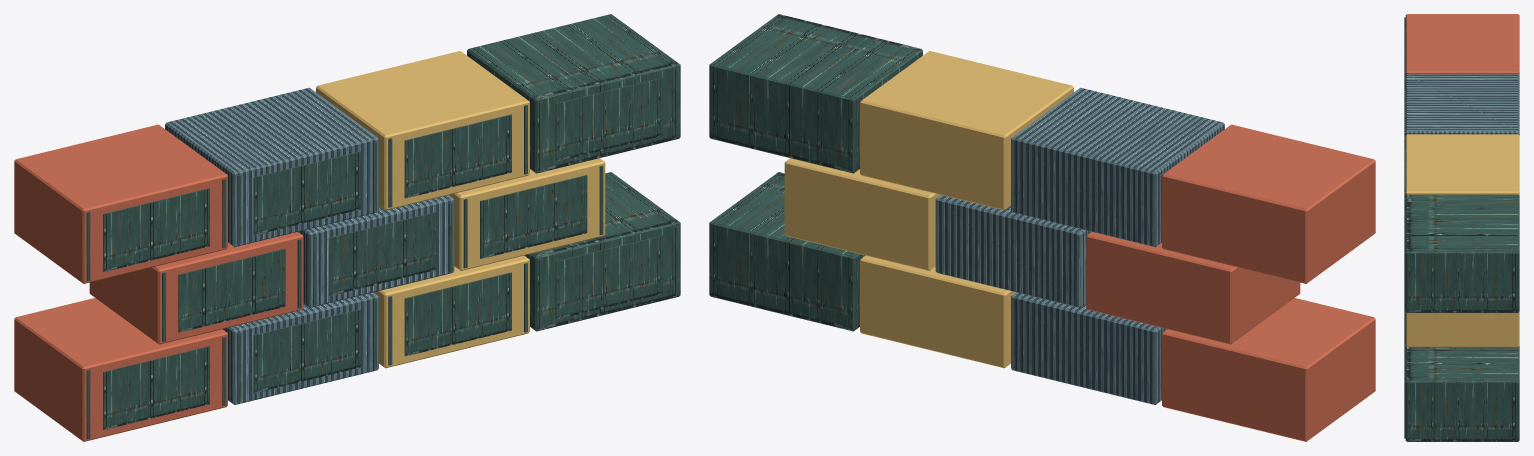
The model's file is containerStack.glb.
3 renders of one model, left to right at view 1: azimuth 30°, elevation 25°; view 2: azimuth 150°, elevation 25°; view 3: azimuth 270°, elevation 25°, orthographic. The views are drawn at different scales.
Visible parts, largest first — view 1: Container.2.0, Container.0.0, Container.2.1, Container.2.2, Container.2.3, Container.1.0, Container.0.3, Container.0.2.Door, Container.2.2.Door, Container.0.3.Door, Container.1.1.Door, Container.1.2.Door (+10 smaller); view 2: Container.2.0, Container.0.0, Container.2.2, Container.2.1, Container.2.3, Container.1.0, Container.0.3, Container.1.1, Container.1.2, Container.0.1, Container.0.2; view 3: Container.2.3, Container.0.3, Container.2.1, Container.2.0, Container.2.2, Container.1.2.
Boxes of the visible parts, x1,y1,x2,y2 form: Container.2.0: (14,124,227,283); Container.0.0: (14,298,227,441); Container.2.1: (165,87,378,247); Container.2.2: (316,51,529,210); Container.2.3: (467,14,680,173); Container.1.0: (89,232,303,344); Container.0.3: (524,172,680,331); Container.0.2.Door: (404,272,511,356); Container.2.2.Door: (404,114,511,198); Container.0.3.Door: (555,235,662,319); Container.1.1.Door: (329,212,436,295); Container.1.2.Door: (480,175,587,258); Container.2.0: (1162,124,1375,283); Container.0.0: (1162,298,1375,441); Container.2.2: (860,51,1073,210); Container.2.1: (1011,87,1224,247); Container.2.3: (709,14,922,173); Container.1.0: (1086,232,1300,344); Container.0.3: (709,172,865,331); Container.1.1: (935,195,1091,307); Container.1.2: (784,158,940,270); Container.0.1: (1011,292,1166,404); Container.0.2: (860,255,1015,368); Container.2.3: (1405,194,1519,312); Container.0.3: (1405,346,1519,441); Container.2.1: (1405,74,1519,135); Container.2.0: (1405,14,1519,74); Container.2.2: (1405,134,1519,195); Container.1.2: (1405,312,1519,347).
Size of what is drawn, in the model's own units: 47.6 by 17.7 by 9.71.
5 materials, 3 textured.
